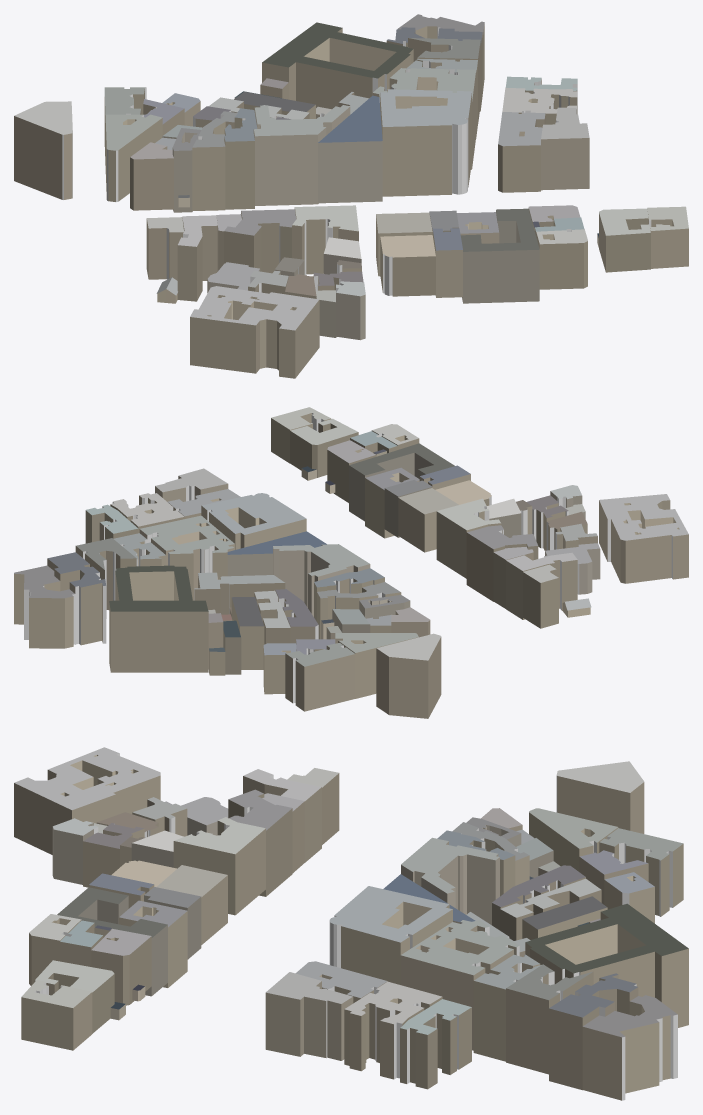
3 views of the same model, one above another, from view 1: azimuth 30°, elevation 25°; view 2: azimuth 150°, elevation 25°; view 3: azimuth 270°, elevation 25° (orthographic). The views are drawn at different scales.
Visible parts, largest first — view 1: tuile; view 2: tuile; view 3: tuile.
Part boxes in pixels (<box>): tuile: <box>14,14,688,378</box>; tuile: <box>14,407,688,718</box>; tuile: <box>14,747,688,1100</box>.
Bounding box in the file's own units: 286 × 44.7 × 280.
